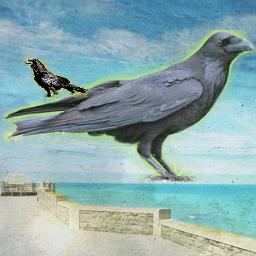Crow: (2, 30, 256, 182), (23, 58, 88, 98)
